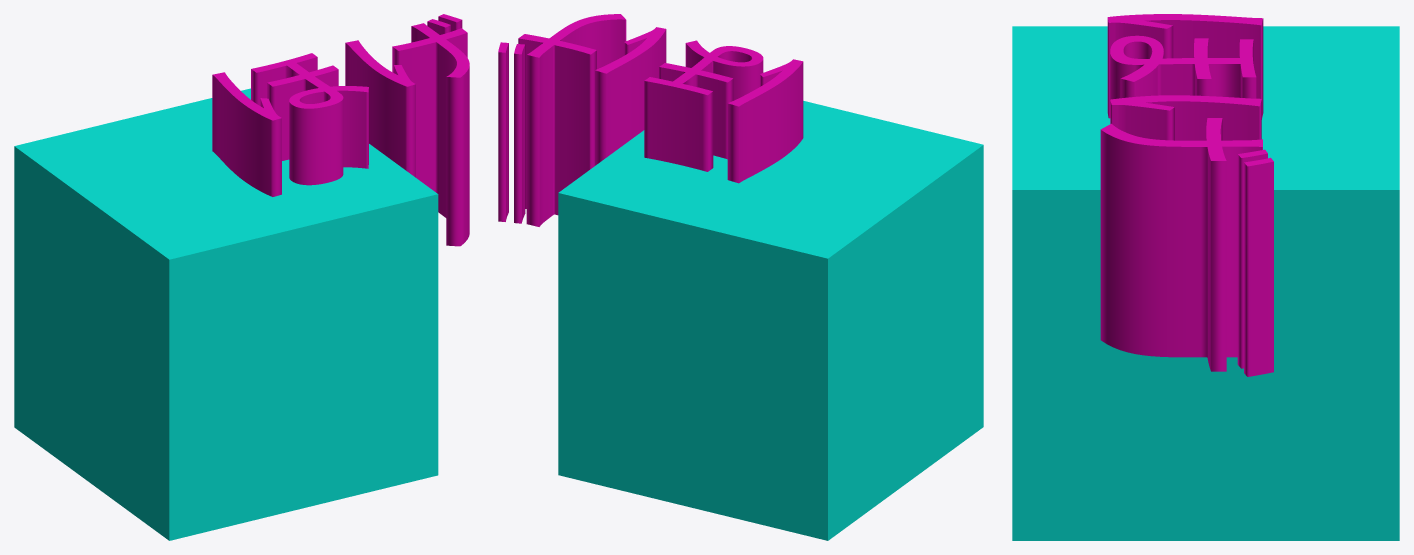
3 renders of one model, left to right at view 1: azimuth 30°, elevation 25°; view 2: azimuth 150°, elevation 25°; view 3: azimuth 270°, elevation 25°, orthographic. The views are drawn at different scales.
Visible parts, largest first — view 1: Cube, テキスト; view 2: Cube, テキスト; view 3: Cube, テキスト.
Boxes of the visible parts, x1,y1,x2,y2 form: Cube: [14, 88, 438, 540]; テキスト: [212, 14, 469, 246]; Cube: [558, 101, 983, 540]; テキスト: [498, 14, 803, 226]; Cube: [1012, 26, 1399, 540]; テキスト: [1100, 14, 1273, 376].
Bounding box in the file's own units: 2.88 × 2.54 × 2.
